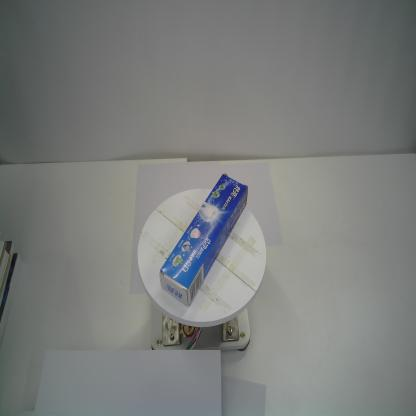Personal Hygiene: (159, 174, 248, 306)
